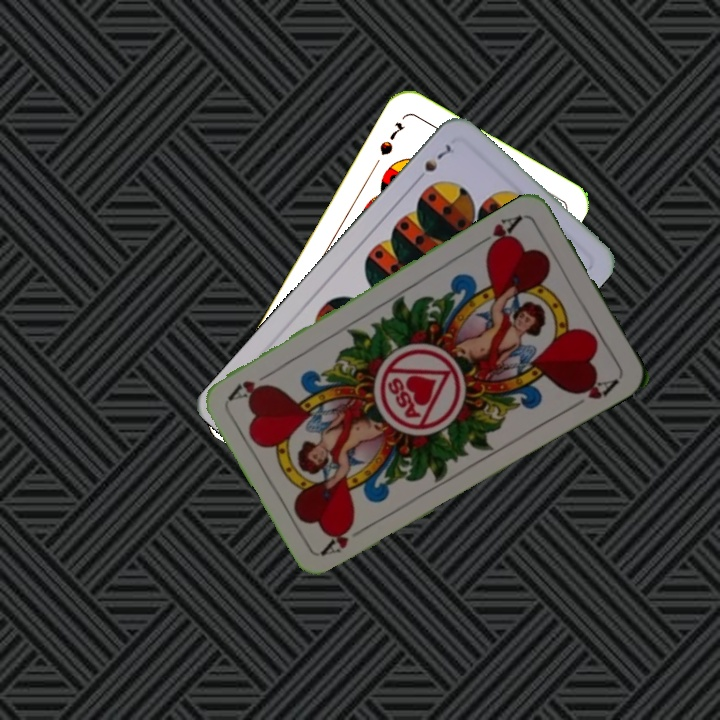HA: (473, 210, 526, 255), (318, 518, 372, 558)
S7: (411, 139, 454, 185), (375, 117, 407, 158)
